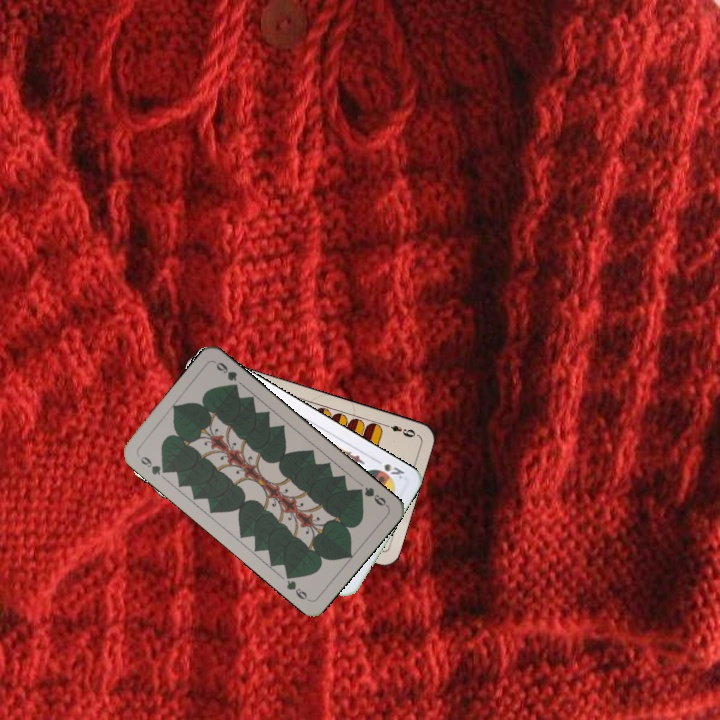E9: (380, 419, 418, 440)
G9: (134, 451, 171, 478), (352, 483, 390, 509)
SK: (380, 459, 407, 482)
